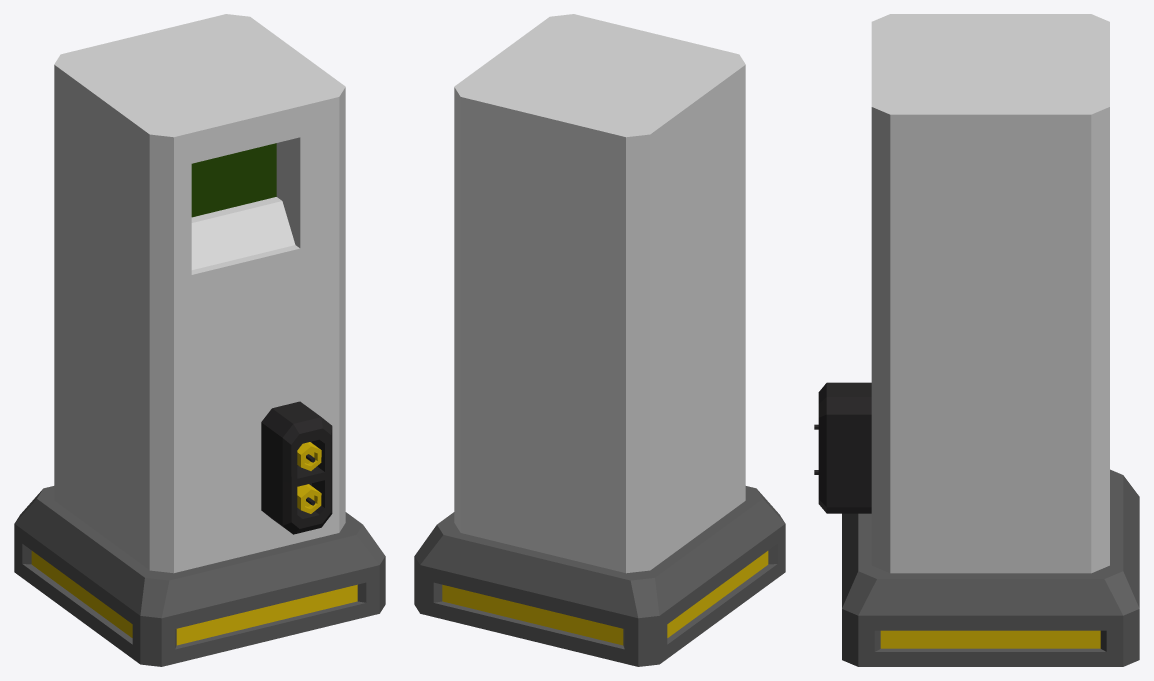
File: SM_SM_Charger_01.fbx
3 renders of one model, left to right at view 1: azimuth 30°, elevation 25°; view 2: azimuth 150°, elevation 25°; view 3: azimuth 270°, elevation 25°, orthographic. The views are drawn at different scales.
Parts seen in each view (by area): view 1: SM_Charger_01; view 2: SM_Charger_01; view 3: SM_Charger_01.
Part boxes in pixels (box(x1,y1,x2,y2)): SM_Charger_01: box(14, 14, 385, 666); SM_Charger_01: box(414, 14, 785, 666); SM_Charger_01: box(814, 14, 1139, 666).
Size of the model in its own units: 100 by 200 by 109.
